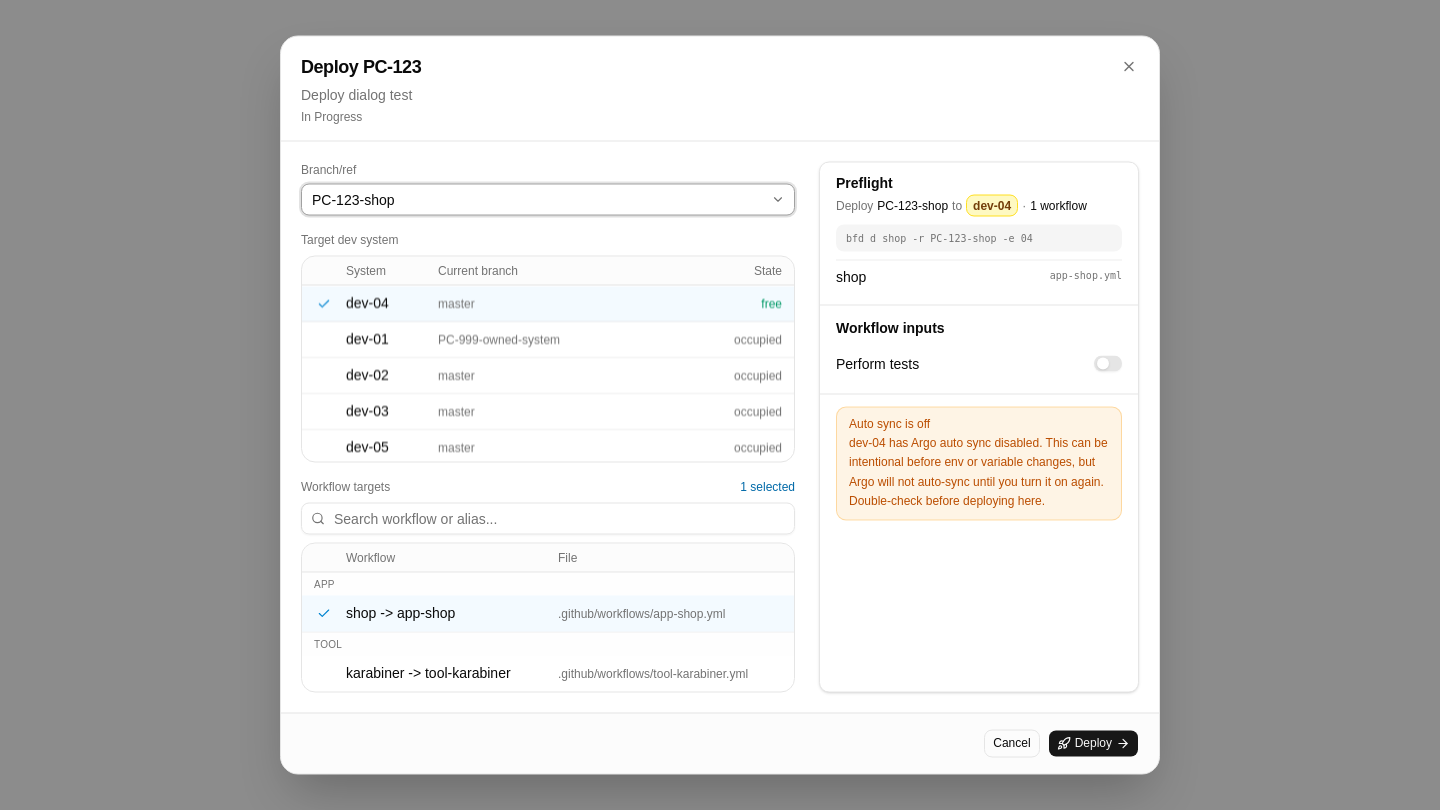
Test: prioritizes free targets and shows selected target warnings
Expected: the text "shop -> app-shop" is shown, [346,605,455,621]
Expected: the option "dev-04 master free" is shown, [302,286,794,322]
Click the text "dev-01" at (367, 338), box [346,330,389,346]
(page scrolled)
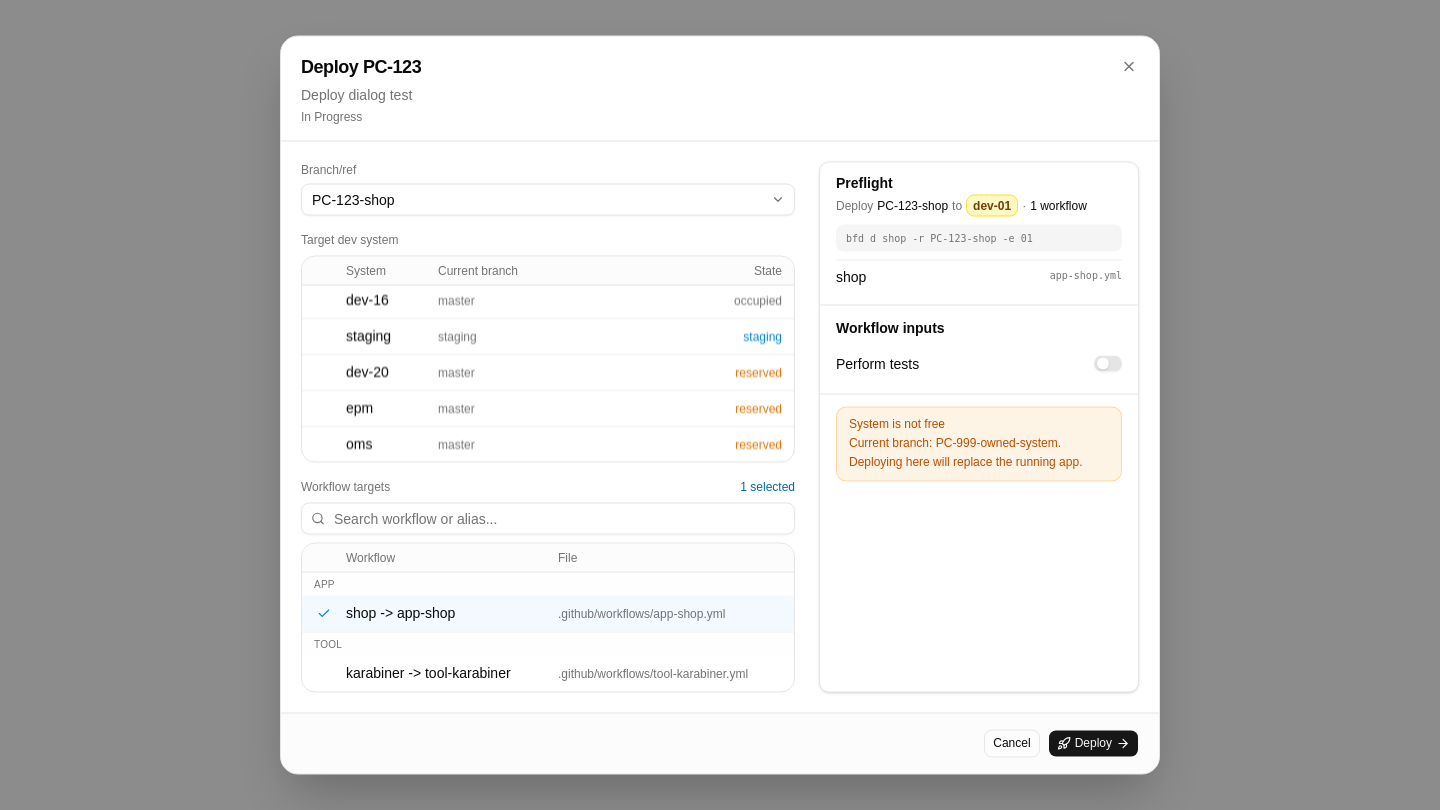
Result: the text "System is not free" is shown at [849,416,945,430]
Result: the text "Current branch: PC-999-owned-system" is shown at [849,435,1082,468]
Click the text "dev-20" at (367, 372), box [346,364,389,380]
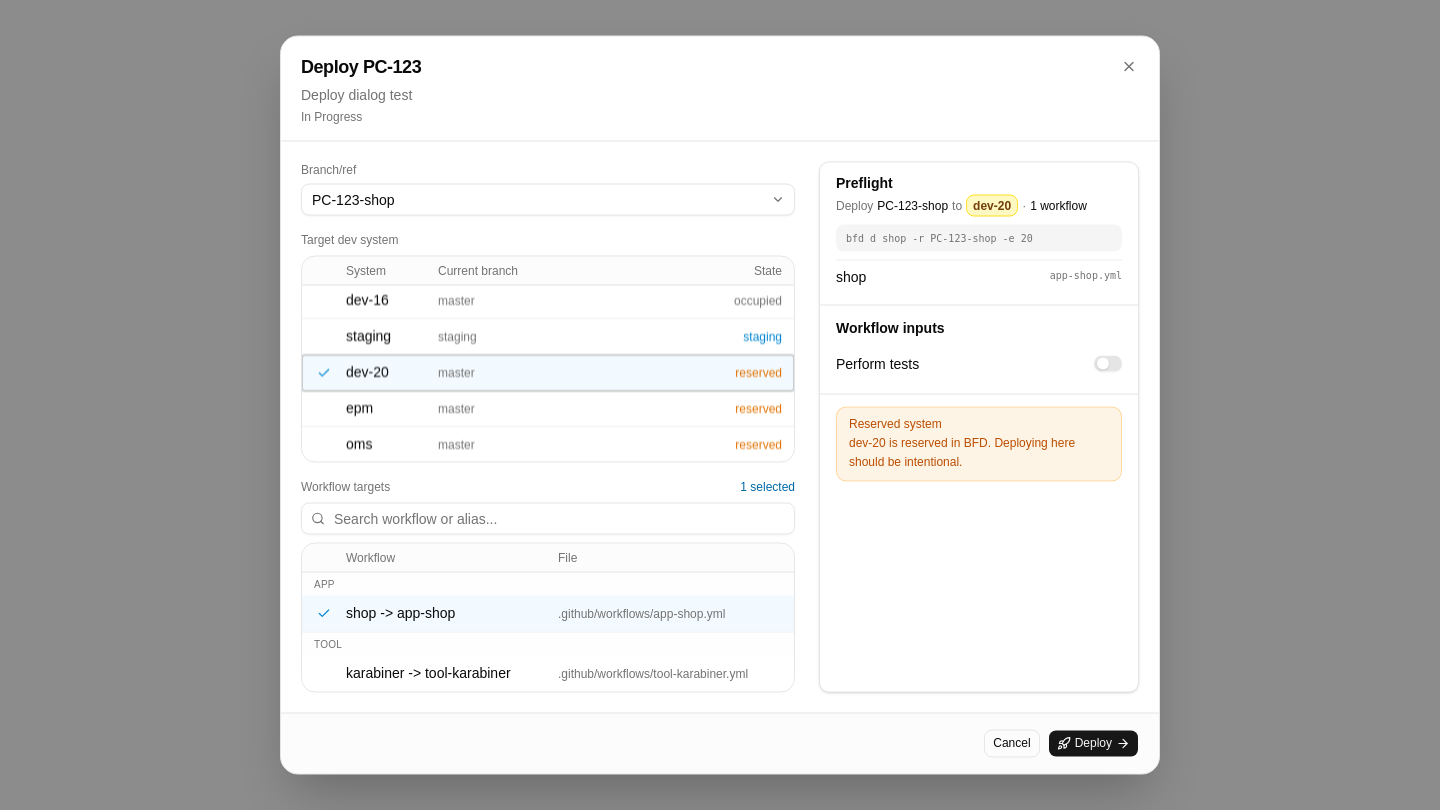
Result: the text "Reserved system" is shown at [849,416,942,430]
Result: the text "dev-20 is reserved in BFD" is shown at [849,435,1075,468]
Click the option "staging staging staging" at (369, 336), box [302,320,794,356]
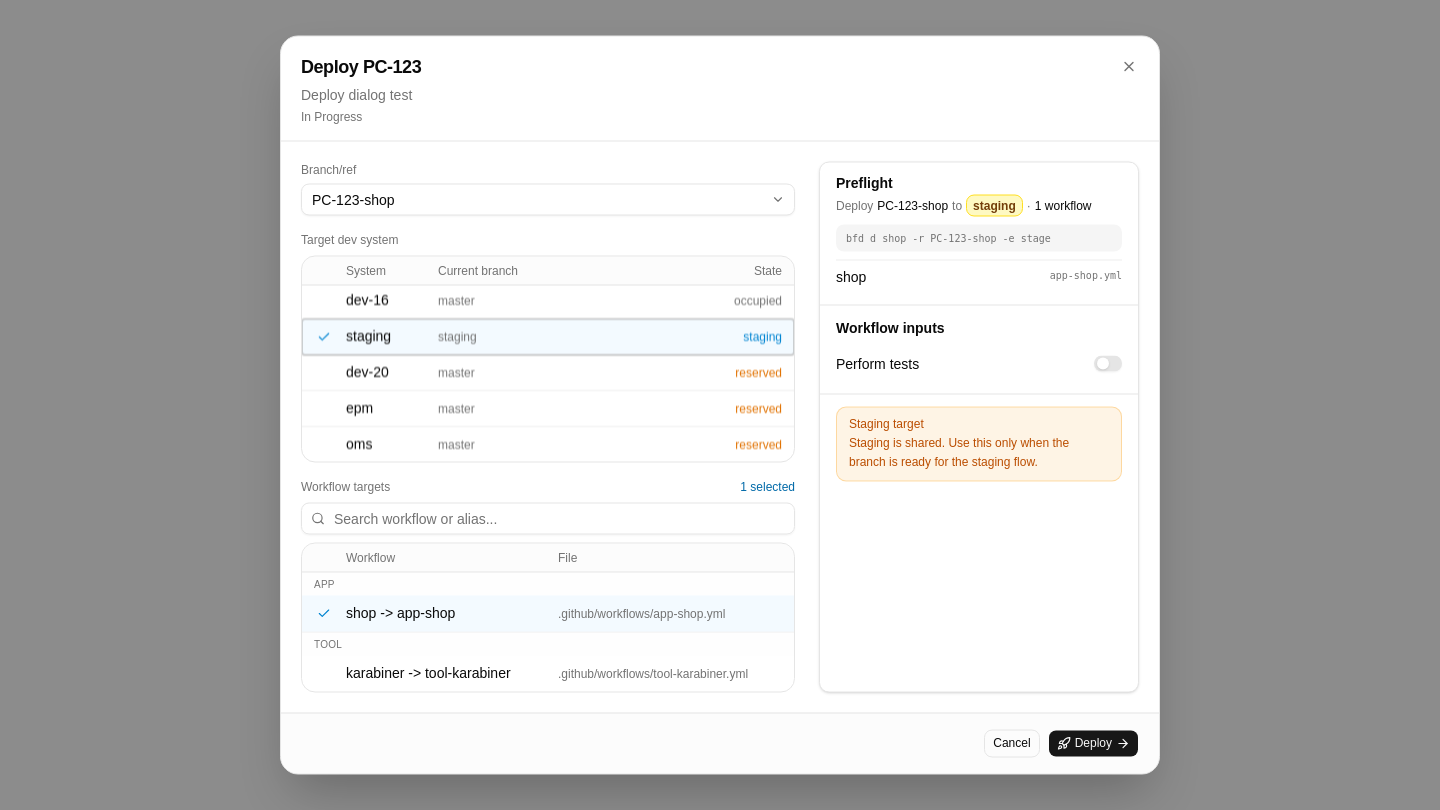
Result: the text "Staging target" is shown at [849,416,924,430]
Result: the text "Staging is shared" is shown at [849,435,1069,468]
